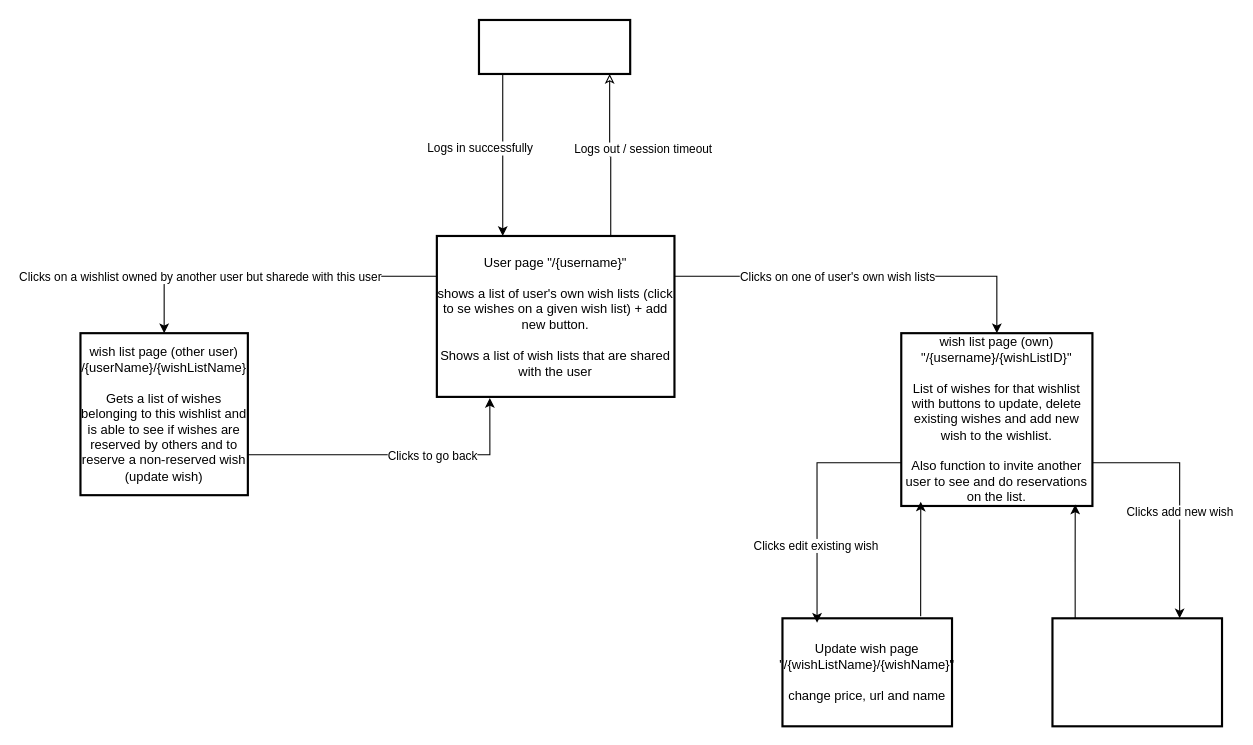
The diagram is 1253 pixels wide and 745 high, and some of its shapes have lost their labels. The shapes that lost their labels are listed below. From the top down, each one's box as (x1, y1, x2, y2) in pixels, then its label:
(477, 18, 631, 75): Home Page / login "/"
(1051, 617, 1223, 727): add new wish page "/{wishListName}/add add price, url and name
